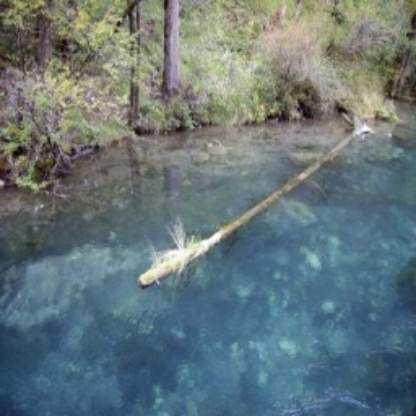branch: (135, 135, 356, 290)
